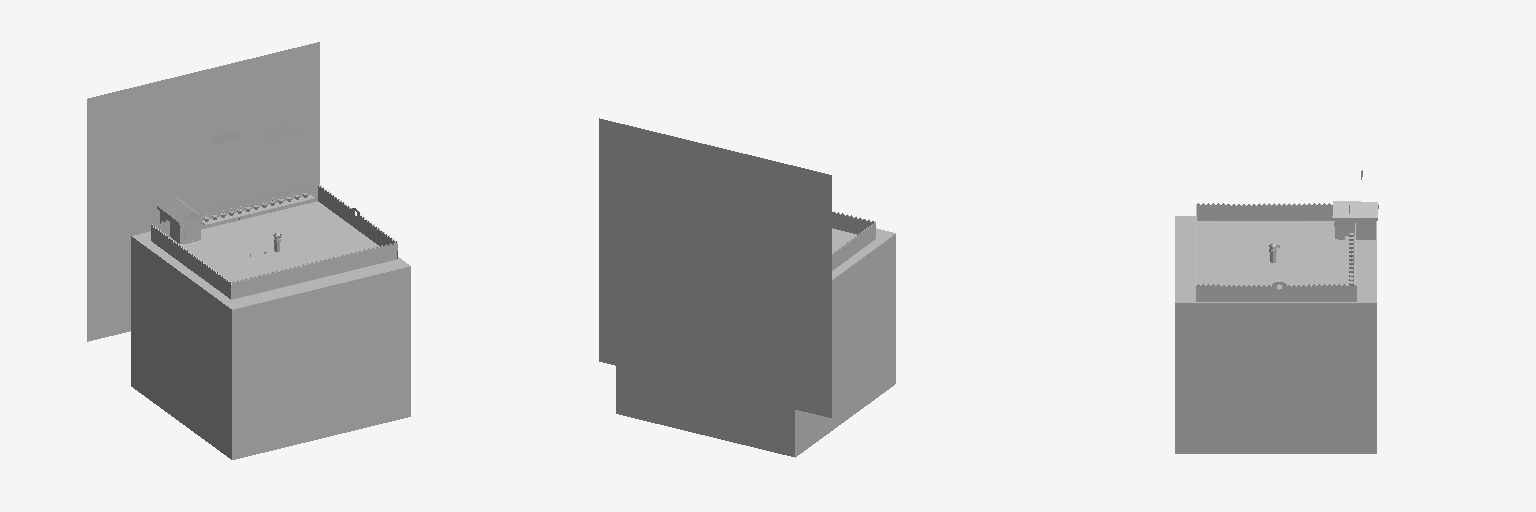
File: 32BitDemoDisk.obj
3 renders of one model, left to right at view 1: azimuth 30°, elevation 25°; view 2: azimuth 150°, elevation 25°; view 3: azimuth 270°, elevation 25°, orthographic.
Visible parts, largest first — view 1: GrassGround, Sky, Fence, Shed, Fence.002, Fence.003; view 2: Sky, GrassGround, Fence.002, Fence; view 3: GrassGround, Fence.003, Fence.002, Shed.
Boxes of the visible parts, x1,y1,x2,y2 form: GrassGround: [131, 201, 410, 459]; Sky: [87, 42, 319, 341]; Fence: [153, 184, 397, 299]; Shed: [157, 193, 203, 243]; Fence.002: [151, 224, 231, 299]; Fence.003: [318, 184, 397, 258]; Sky: [599, 118, 831, 417]; GrassGround: [616, 228, 895, 457]; Fence.002: [832, 222, 875, 270]; Fence: [832, 211, 874, 234]; GrassGround: [1175, 216, 1376, 453]; Fence.003: [1196, 284, 1356, 301]; Fence.002: [1197, 203, 1334, 220]; Shed: [1332, 201, 1378, 239].
Size of the model in its own units: 51.07 by 61.94 by 39.8.